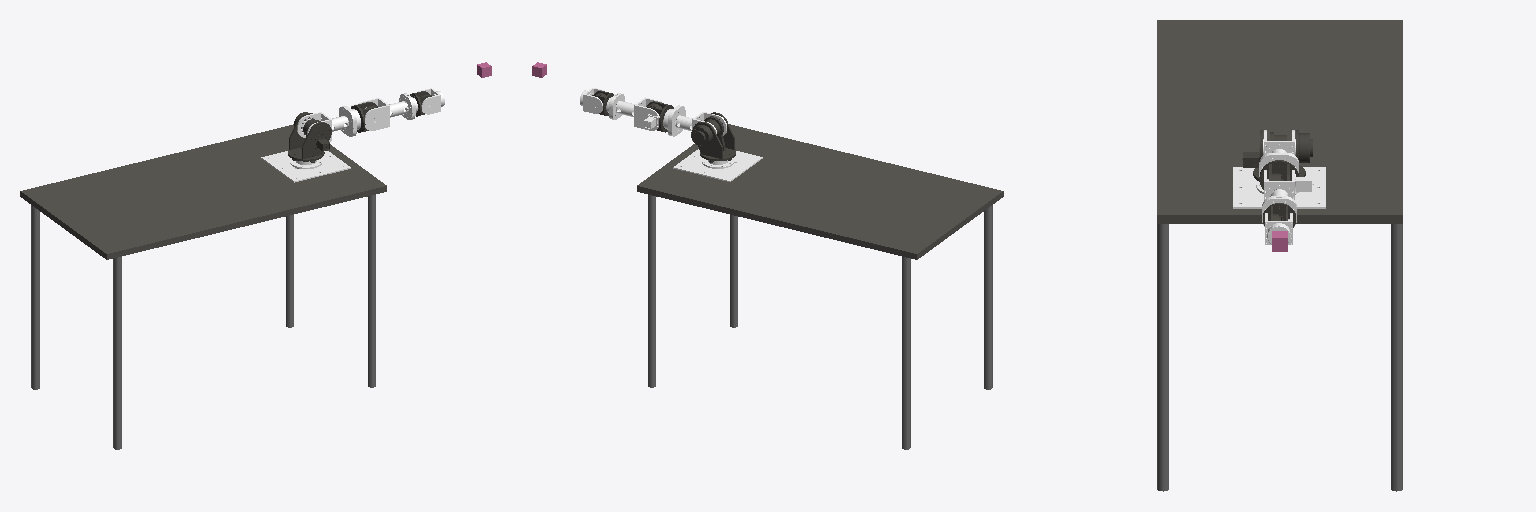
URDF robot description (daadbot):
<?xml version='1.0' encoding='utf-8'?>
<robot name="daadbot">
  <gazebo>
    <plugin filename="gz_ros2_control-system" name="gz_ros2_control::GazeboSimROS2ControlPlugin">
      <parameters>/home/maryammahmood/daadbot_manipulator_ws/install/daadbot_controller/share/daadbot_controller/config/pos_trajectory_controller.yaml</parameters>
    </plugin>
    <plugin filename="ignition-gazebo-forcetorque-system" name="ignition::gazebo::systems::ForceTorque">
            </plugin>
  </gazebo>
  <ros2_control name="Manipulator" type="system">
    <hardware>
      <plugin>gz_ros2_control/GazeboSimSystem</plugin>
    </hardware>
    <joint name="joint_1">
      <command_interface name="position">
        <param name="min">-0.1</param>
        <param name="max">3.2</param>
      </command_interface>
      <state_interface name="position" />
      <state_interface name="velocity" />
      <state_interface name="effort" />
    </joint>
    <joint name="joint_2">
      <command_interface name="position">
        <param name="min">-3.307</param>
        <param name="max">0.5236</param>
      </command_interface>
      <state_interface name="position" />
      <state_interface name="velocity" />
      <state_interface name="effort" />
    </joint>
    <joint name="joint_3">
      <command_interface name="position">
        <param name="min">-0.1</param>
        <param name="max">3.2</param>
      </command_interface>
      <state_interface name="position" />
      <state_interface name="velocity" />
      <state_interface name="effort" />
    </joint>
    <joint name="joint_4">
      <command_interface name="position">
        <param name="min">-1.9199</param>
        <param name="max">1.9199</param>
      </command_interface>
      <state_interface name="position" />
      <state_interface name="velocity" />
      <state_interface name="effort" />
    </joint>
    <joint name="joint_5">
      <command_interface name="position">
        <param name="min">-0.1</param>
        <param name="max">3.4</param>
      </command_interface>
      <state_interface name="position" />
      <state_interface name="velocity" />
      <state_interface name="effort" />
    </joint>
    <joint name="joint_6">
      <command_interface name="position">
        <param name="min">-3.673205e-06</param>
        <param name="max">3.141596326795</param>
      </command_interface>
      <state_interface name="position" />
      <state_interface name="velocity" />
      <state_interface name="effort" />
    </joint>
  </ros2_control>
  <link name="table_top">
    <visual>
      <origin xyz="0 0 1.0" />
      <geometry>
        <box size="1.5 0.8 0.03" />
      </geometry>
      <material name="">
        <color rgba="0.388 0.376 0.357 1" />
      </material>
    </visual>
    <collision>
      <origin xyz="0 0 1.0" />
      <geometry>
        <box size="1.5 0.8 0.03" />
      </geometry>
    </collision>
    <inertial>
      <origin xyz="0 0 1.0" />
      <mass value="5.0" />
      <inertia ixx="0.1" ixy="0" ixz="0" iyy="0.1" iyz="0" izz="0.1" />
    </inertial>
  </link>
  <gazebo reference="table_top">
    <static>true</static>
    <surface>
      <contact>
        <ode>
          <kp>100000.0</kp>
          <kd>1000.0</kd>
        </ode>
      </contact>
      <friction>
        <ode>
          <mu>1.0</mu>
          <mu2>1.0</mu2>
        </ode>
      </friction>
    </surface>
  </gazebo>
  <link name="front_left_leg">
    <visual>
      <origin xyz="0 0 0.5" />
      <geometry>
        <cylinder length="1.0" radius="0.02" />
      </geometry>
      <material name="">
        <color rgba="0.5 0.5 0.5 1" />
      </material>
    </visual>
    <collision>
      <origin xyz="0 0 0.5" />
      <geometry>
        <cylinder length="1.0" radius="0.02" />
      </geometry>
    </collision>
    <inertial>
      <origin xyz="0 0 0.5" />
      <mass value="1.0" />
      <inertia ixx="0.01" ixy="0" ixz="0" iyy="0.01" iyz="0" izz="0.01" />
    </inertial>
  </link>
  <joint name="front_left_leg_joint" type="fixed">
    <parent link="table_top" />
    <child link="front_left_leg" />
    <origin xyz="0.68 0.38 0.0" />
  </joint>
  <link name="front_right_leg">
    <visual>
      <origin xyz="0 0 0.5" />
      <geometry>
        <cylinder length="1.0" radius="0.02" />
      </geometry>
      <material name="">
        <color rgba="0.5 0.5 0.5 1" />
      </material>
    </visual>
    <collision>
      <origin xyz="0 0 0.5" />
      <geometry>
        <cylinder length="1.0" radius="0.02" />
      </geometry>
    </collision>
    <inertial>
      <origin xyz="0 0 0.5" />
      <mass value="1.0" />
      <inertia ixx="0.01" ixy="0" ixz="0" iyy="0.01" iyz="0" izz="0.01" />
    </inertial>
  </link>
  <joint name="front_right_leg_joint" type="fixed">
    <parent link="table_top" />
    <child link="front_right_leg" />
    <origin xyz="0.68 -0.38 0.0" />
  </joint>
  <link name="back_left_leg">
    <visual>
      <origin xyz="0 0 0.5" />
      <geometry>
        <cylinder length="1.0" radius="0.02" />
      </geometry>
      <material name="">
        <color rgba="0.5 0.5 0.5 1" />
      </material>
    </visual>
    <collision>
      <origin xyz="0 0 0.5" />
      <geometry>
        <cylinder length="1.0" radius="0.02" />
      </geometry>
    </collision>
    <inertial>
      <origin xyz="0 0 0.5" />
      <mass value="1.0" />
      <inertia ixx="0.01" ixy="0" ixz="0" iyy="0.01" iyz="0" izz="0.01" />
    </inertial>
  </link>
  <joint name="back_left_leg_joint" type="fixed">
    <parent link="table_top" />
    <child link="back_left_leg" />
    <origin xyz="-0.68 0.38 0.0" />
  </joint>
  <link name="back_right_leg">
    <visual>
      <origin xyz="0 0 0.5" />
      <geometry>
        <cylinder length="1.0" radius="0.02" />
      </geometry>
      <material name="">
        <color rgba="0.5 0.5 0.5 1" />
      </material>
    </visual>
    <collision>
      <origin xyz="0 0 0.5" />
      <geometry>
        <cylinder length="1.0" radius="0.02" />
      </geometry>
    </collision>
    <inertial>
      <origin xyz="0 0 0.5" />
      <mass value="1.0" />
      <inertia ixx="0.01" ixy="0" ixz="0" iyy="0.01" iyz="0" izz="0.01" />
    </inertial>
  </link>
  <joint name="back_right_leg_joint" type="fixed">
    <parent link="table_top" />
    <child link="back_right_leg" />
    <origin xyz="-0.68 -0.38 0.0" />
  </joint>
  <link name="world" />
  <joint name="table_joint" type="fixed">
    <parent link="world" />
    <child link="table_top" />
    <origin rpy="0 0 0" xyz="0 0 0" />
  </joint>
  <link name="camera_link">
    <visual>
      <geometry>
        <box size="0.05 0.05 0.05" />
      </geometry>
      <material name="" />
    </visual>
  </link>
  <joint name="camera_joint" type="fixed">
    <parent link="table_top" />
    <child link="camera_link" />
    <origin rpy="0 0 0" xyz="1.5 0.0 1.27" />
  </joint>
  <joint name="base_joint" type="fixed">
    <parent link="table_top" />
    <child link="base_link" />
    <origin rpy="0 0 0" xyz="0.55 0 1.017" />
  </joint>
  <link name="base_link">
    <inertial>
      <origin rpy="0 0 0" xyz="-0.00246645540256236 -0.00131466478904116 0.00320374562257973" />
      <mass value="6.91122989464636" />
      <inertia ixx="0.0466171750852481" ixy="0.00010076855342015" ixz="5.14819747192778E-08" iyy="0.0464821203083076" iyz="-1.44621889265211E-07" izz="0.0929840869855057" />
    </inertial>
    <visual>
      <origin rpy="0 0 0" xyz="0 0 0" />
      <geometry>
        <mesh filename="package://daadbot_desc/meshes/base_link.STL" />
      </geometry>
      <material name="">
        <color rgba="1 1 1 1" />
      </material>
    </visual>
    <collision>
      <origin rpy="0 0 0" xyz="0 0 0" />
      <geometry>
        <mesh filename="package://daadbot_desc/meshes/base_link.STL" />
      </geometry>
    </collision>
  </link>
  <link name="Link_1">
    <inertial>
      <origin rpy="0 0 0" xyz="0.0222146013900772 2.73568109690481E-06 0.0747841784291177" />
      <mass value="2.34948803406793" />
      <inertia ixx="0.00332922517000865" ixy="1.64875308454708E-07" ixz="-0.000433929392474112" iyy="0.00524724735039028" iyz="2.38505609352415E-07" izz="0.00419520671173006" />
    </inertial>
    <visual>
      <origin rpy="0 0 0" xyz="0 0 0" />
      <geometry>
        <mesh filename="package://daadbot_desc/meshes/Link_1.STL" />
      </geometry>
      <material name="">
        <color rgba="0.329 0.322 0.302 1" />
      </material>
    </visual>
    <collision>
      <origin rpy="0 0 0" xyz="0 0 0" />
      <geometry>
        <mesh filename="package://daadbot_desc/meshes/Link_1.STL" />
      </geometry>
    </collision>
  </link>
  <joint name="joint_1" type="revolute">
    <origin rpy="0 0 0" xyz="-0.0029638 -0.0015759 0.04796" />
    <parent link="base_link" />
    <child link="Link_1" />
    <axis xyz="0 0 -1" />
    <limit effort="200.0" lower="-0.1" upper="3.2" velocity="12.776" />
  </joint>
  <link name="daadbot/joint_1/tcp_fts_sensor_joint_1" />
  <joint name="tcp_fts_joint_1" type="fixed">
    <parent link="base_link" />
    <child link="daadbot/joint_1/tcp_fts_sensor_joint_1" />
    <origin rpy="0 0 0" xyz="-0.0029638 -0.0015759 0.04796" />
  </joint>
  <gazebo reference="joint_1">
    <sensor name="tcp_fts_sensor_joint_1" type="force_torque">
      <always_on>true</always_on>
      <update_rate>1000</update_rate>
      <visualize>true</visualize>
      <force_torque>
        <frame>child</frame>
        <measure_direction>child_to_parent</measure_direction>
      </force_torque>
      <pose>0 0 0 0 0 0</pose>
    </sensor>
  </gazebo>
  <link name="Link_2">
    <inertial>
      <origin rpy="0 0 0" xyz="0.121210588587965 0.000230649813345946 -0.049540637756618" />
      <mass value="2.24401700155026" />
      <inertia ixx="0.00250860362" ixy="-1.95804141e-05" ixz="1.06350024e-06" iyy="0.00852523380" iyz="4.22077320e-07" izz="0.00807927033" />
    </inertial>
    <visual>
      <origin rpy="0 0 0" xyz="0 0 0" />
      <geometry>
        <mesh filename="package://daadbot_desc/meshes/Link_2.STL" />
      </geometry>
      <material name="">
        <color rgba="1 1 1 1" />
      </material>
    </visual>
    <collision>
      <origin rpy="0 0 0" xyz="0 0 0" />
      <geometry>
        <mesh filename="package://daadbot_desc/meshes/Link_2.STL" />
      </geometry>
    </collision>
  </link>
  <joint name="joint_2" type="revolute">
    <origin rpy="1.5707963267949 0 0" xyz="0.0400000000000002 -0.050000000000002 0.114463048454132" />
    <parent link="Link_1" />
    <child link="Link_2" />
    <axis xyz="0 0 -1" />
    <limit effort="200.0" lower="-3.307" upper="0.5236" velocity="12.776" />
    <sensor name="force_torque" type="force_torque">
      <update_rate>30</update_rate>
    </sensor>
  </joint>
  <link name="daadbot/joint_2/tcp_fts_sensor_joint_2" />
  <joint name="tcp_fts_joint_2" type="fixed">
    <parent link="Link_1" />
    <child link="daadbot/joint_2/tcp_fts_sensor_joint_2" />
    <origin rpy="1.5707963267949 0 0" xyz="0.04 -0.05 0.114463048454132" />
  </joint>
  <gazebo reference="joint_2">
    <sensor name="tcp_fts_sensor_joint_2" type="force_torque">
      <always_on>true</always_on>
      <update_rate>100</update_rate>
      <visualize>false</visualize>
      <force_torque>
        <frame>child</frame>
        <measure_direction>child_to_parent</measure_direction>
      </force_torque>
      <pose>0 0 0 0 0 0</pose>
    </sensor>
  </gazebo>
  <link name="Link_3">
    <inertial>
      <origin rpy="0 0 0" xyz="-0.00448997206818821 -2.34751712904213E-05 0.0488571768392556" />
      <mass value="1.2718719681393" />
      <inertia ixx="0.00206983011422612" ixy="9.27500479472452E-08" ixz="3.38378548754623E-06" iyy="0.00129565231901482" iyz="2.88989653562542E-07" izz="0.00156994991003151" />
    </inertial>
    <visual>
      <origin rpy="0 0 0" xyz="0 0 0" />
      <geometry>
        <mesh filename="package://daadbot_desc/meshes/Link_3.STL" />
      </geometry>
      <material name="">
        <color rgba="0.329 0.322 0.302 1" />
      </material>
    </visual>
    <collision>
      <origin rpy="0 0 0" xyz="0 0 0" />
      <geometry>
        <mesh filename="package://daadbot_desc/meshes/Link_3.STL" />
      </geometry>
    </collision>
  </link>
  <joint name="joint_3" type="revolute">
    <origin rpy="0 1.5707963267949 0" xyz="0.234499999999998 0 -0.0495000000000002" />
    <parent link="Link_2" />
    <child link="Link_3" />
    <axis xyz="0 0 -1" />
    <limit effort="200.0" lower="-0.1" upper="3.2" velocity="12.776" />
  </joint>
  <link name="daadbot/joint_3/tcp_fts_sensor_joint_3" />
  <joint name="tcp_fts_joint_3" type="fixed">
    <parent link="Link_2" />
    <child link="daadbot/joint_3/tcp_fts_sensor_joint_3" />
    <origin rpy="0 1.5707963267949 0" xyz="0.234499999999998 0 -0.04950000000000022" />
  </joint>
  <gazebo reference="joint_3">
    <sensor name="tcp_fts_sensor_joint_3" type="force_torque">
      <always_on>true</always_on>
      <update_rate>1000</update_rate>
      <visualize>true</visualize>
      <force_torque>
        <frame>child</frame>
        <measure_direction>child_to_parent</measure_direction>
      </force_torque>
      <pose>0 0 0 0 0 0</pose>
    </sensor>
  </gazebo>
  <link name="Link_4">
    <inertial>
      <origin rpy="0 0 0" xyz="-0.119169680650385 -0.000128811902195713 0.0378163924527294" />
      <mass value="2.67615775175726" />
      <inertia ixx="0.00308017562479927" ixy="2.47453551729311E-06" ixz="-7.09348932448939E-07" iyy="0.00238129778603005" iyz="-7.47320677385655E-07" izz="0.00293128138362422" />
    </inertial>
    <visual>
      <origin rpy="0 0 0" xyz="0 0 0" />
      <geometry>
        <mesh filename="package://daadbot_desc/meshes/Link_4.STL" />
      </geometry>
      <material name="">
        <color rgba="1 1 1 1" />
      </material>
    </visual>
    <collision>
      <origin rpy="0 0 0" xyz="0 0 0" />
      <geometry>
        <mesh filename="package://daadbot_desc/meshes/Link_4.STL" />
      </geometry>
    </collision>
  </link>
  <joint name="joint_4" type="revolute">
    <origin rpy="0 1.5707963267949 0" xyz="-0.0324999999999996 0 0.0750000000000004" />
    <parent link="Link_3" />
    <child link="Link_4" />
    <axis xyz="0 0 -1" />
    <limit effort="200.0" lower="-1.9199" upper="1.9199" velocity="12.77581" />
  </joint>
  <link name="daadbot/joint_4/tcp_fts_sensor_joint_4" />
  <joint name="tcp_fts_joint_4" type="fixed">
    <parent link="Link_3" />
    <child link="daadbot/joint_4/tcp_fts_sensor_joint_4" />
    <origin rpy="0 1.5707963267949 0" xyz="-0.0324999999999996 0 0.0750000000000004" />
  </joint>
  <gazebo reference="joint_4">
    <sensor name="tcp_fts_sensor_joint_4" type="force_torque">
      <always_on>true</always_on>
      <update_rate>1000</update_rate>
      <visualize>true</visualize>
      <force_torque>
        <frame>child</frame>
        <measure_direction>child_to_parent</measure_direction>
      </force_torque>
      <pose>0 0 0 0 0 0</pose>
    </sensor>
  </gazebo>
  <link name="Link_5">
    <inertial>
      <origin rpy="0 0 0" xyz="0.00685541523757274 3.79292913340323E-05 0.0488580132405974" />
      <mass value="1.29018300951353" />
      <inertia ixx="0.00112308173661534" ixy="1.28316182440177E-06" ixz="-8.91005390036956E-07" iyy="0.000690097277055795" iyz="-3.23958303943101E-07" izz="0.000815216487439054" />
    </inertial>
    <visual>
      <origin rpy="0 0 0" xyz="0 0 0" />
      <geometry>
        <mesh filename="package://daadbot_desc/meshes/Link_5.STL" />
      </geometry>
      <material name="">
        <color rgba="0.329 0.322 0.302 1" />
      </material>
    </visual>
    <collision>
      <origin rpy="0 0 0" xyz="0 0 0" />
      <geometry>
        <mesh filename="package://daadbot_desc/meshes/Link_5.STL" />
      </geometry>
    </collision>
  </link>
  <joint name="joint_5" type="revolute">
    <origin rpy="3.14159265358979 1.5707963267949 0" xyz="-0.2284999036789 0 0.0330000000000004" />
    <parent link="Link_4" />
    <child link="Link_5" />
    <axis xyz="0 0 -1" />
    <limit effort="15" lower="-0.1" upper="3.4" velocity="19.896753" />
  </joint>
  <link name="daadbot/joint_5/tcp_fts_sensor_joint_5" />
  <joint name="tcp_fts_joint_5" type="fixed">
    <parent link="Link_4" />
    <child link="daadbot/joint_5/tcp_fts_sensor_joint_5" />
    <origin rpy="3.14159265358979 1.5707963267949 0" xyz="-0.2284999036789 0 0.0330000000000004" />
  </joint>
  <gazebo reference="joint_5">
    <sensor name="tcp_fts_sensor_joint_5" type="force_torque">
      <always_on>true</always_on>
      <update_rate>1000</update_rate>
      <visualize>true</visualize>
      <force_torque>
        <frame>child</frame>
        <measure_direction>child_to_parent</measure_direction>
      </force_torque>
      <pose>0 0 0 0 0 0</pose>
    </sensor>
  </gazebo>
  <link name="Link_6">
    <inertial>
      <origin rpy="0 0 0" xyz="-0.0534048711825299 4.35092388909042E-05 0.0268001409986631" />
      <mass value="1.30596061805535" />
      <inertia ixx="0.000961791856097317" ixy="1.00752377127578E-06" ixz="-2.55794494605017E-06" iyy="0.000676134530899485" iyz="-2.71811927605635E-06" izz="0.00084422746855334" />
    </inertial>
    <visual>
      <origin rpy="0 0 0" xyz="0 0 0" />
      <geometry>
        <mesh filename="package://daadbot_desc/meshes/link_6.STL" />
      </geometry>
      <material name="">
        <color rgba="1 1 1 1" />
      </material>
    </visual>
    <collision>
      <origin rpy="0 0 0" xyz="0 0 0" />
      <geometry>
        <mesh filename="package://daadbot_desc/meshes/link_6.STL" />
      </geometry>
    </collision>
  </link>
  <joint name="joint_6" type="revolute">
    <origin rpy="0.0 1.57 0.000796326795" xyz="-0.0265000104908596 0 0.0575000000000075" />
    <parent link="Link_5" />
    <child link="Link_6" />
    <axis xyz="0 0 -1" />
    <limit effort="15" lower="-3.673205e-06" upper="3.141596326795" velocity="19.897" />
  </joint>
  <link name="daadbot/joint_6/tcp_fts_sensor_joint_6" />
  <joint name="tcp_fts_joint_6" type="fixed">
    <parent link="Link_5" />
    <child link="daadbot/joint_6/tcp_fts_sensor_joint_6" />
    <origin rpy="-1.57 0 -1.57" xyz="-0.0265000104908596 0 0.0575000000000075" />
  </joint>
  <gazebo reference="joint_6">
    <sensor name="tcp_fts_sensor_joint_6" type="force_torque">
      <always_on>true</always_on>
      <update_rate>1000</update_rate>
      <visualize>true</visualize>
      <force_torque>
        <frame>child</frame>
        <measure_direction>child_to_parent</measure_direction>
      </force_torque>
      <pose>0 0 0 0 0 0</pose>
    </sensor>
  </gazebo>
</robot>

--- Facts derived from the render (not from the file) ---
The picture shows the robot from 3 angles, left to right: view 1: azimuth 30°, elevation 25°; view 2: azimuth 150°, elevation 25°; view 3: azimuth 270°, elevation 25°; orthographic projection.
Robot: daadbot — 20 links, 19 joints (6 revolute, 13 fixed); root link world; default pose: all joints at 0.
Links seen in each view (by area): view 1: table_top, back_right_leg, back_left_leg, front_right_leg, Link_1, base_link, Link_4, Link_2, front_left_leg; view 2: table_top, back_left_leg, back_right_leg, front_left_leg, Link_1, base_link, Link_4, front_right_leg, Link_2; view 3: table_top, front_left_leg, front_right_leg, base_link, Link_4, Link_1, Link_2, Link_3.
Link boxes in pixels (<box>): table_top: <box>20,124,386,259</box>; back_right_leg: <box>113,257,121,449</box>; back_left_leg: <box>31,205,39,389</box>; front_right_leg: <box>368,195,375,387</box>; Link_1: <box>288,112,331,162</box>; base_link: <box>261,151,350,182</box>; Link_4: <box>351,93,417,130</box>; Link_2: <box>297,106,360,141</box>; front_left_leg: <box>286,215,293,327</box>; table_top: <box>637,124,1003,259</box>; back_left_leg: <box>902,257,910,449</box>; back_right_leg: <box>984,205,992,389</box>; front_left_leg: <box>648,195,655,387</box>; Link_1: <box>691,112,735,162</box>; base_link: <box>673,149,762,181</box>; Link_4: <box>606,93,664,130</box>; front_right_leg: <box>730,215,737,327</box>; Link_2: <box>663,105,726,140</box>; table_top: <box>1157,20,1402,223</box>; front_left_leg: <box>1391,224,1402,491</box>; front_right_leg: <box>1157,224,1168,491</box>; base_link: <box>1233,167,1325,208</box>; Link_4: <box>1262,170,1313,226</box>; Link_1: <box>1242,130,1312,181</box>; Link_2: <box>1259,130,1298,176</box>; Link_3: <box>1259,160,1298,189</box>.
Size in the robot's own frame: 2.27 by 0.8 by 1.29 metres.
7 mesh visuals loaded from 7 distinct referenced files (7 binary STL).
